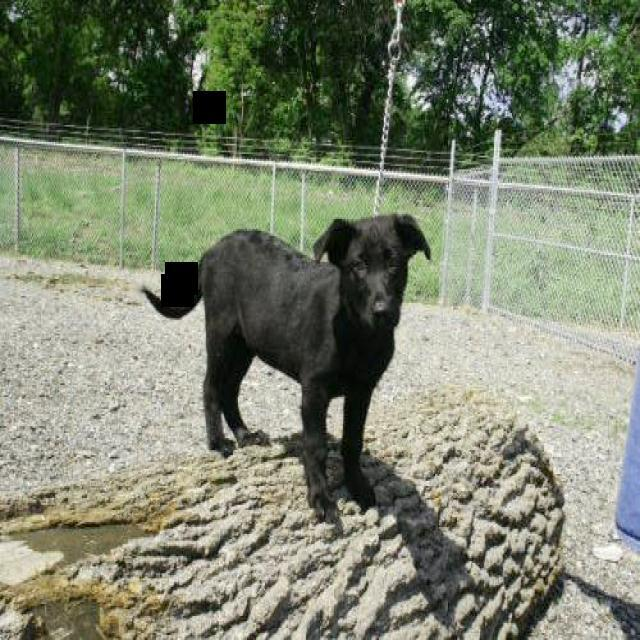adult_dog: (136, 210, 434, 525)
